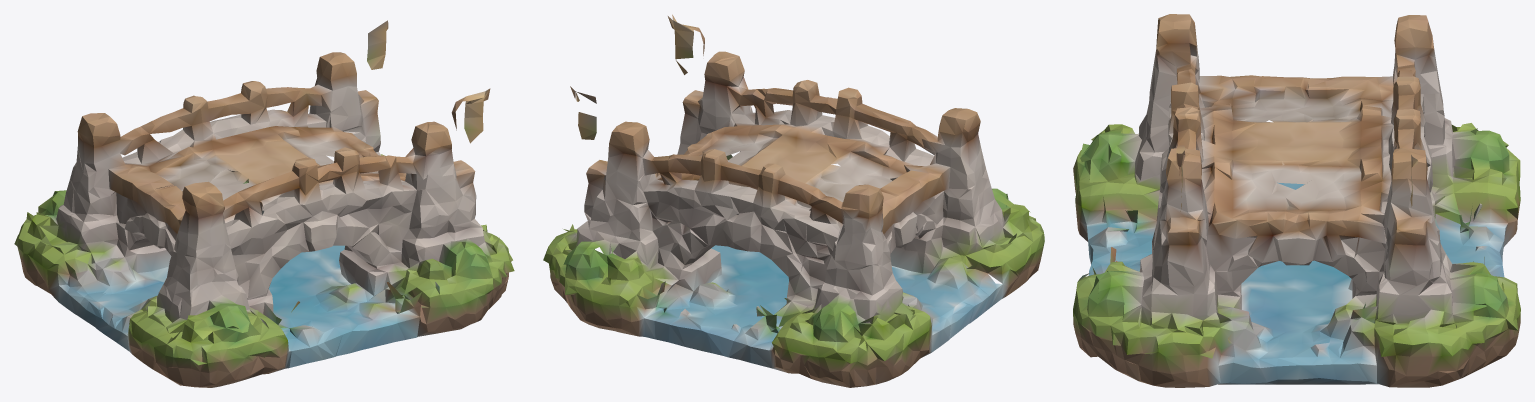
File: world_stone_bridge_lod2.glb
The picture shows the model from 3 angles, left to right: view 1: azimuth 30°, elevation 25°; view 2: azimuth 150°, elevation 25°; view 3: azimuth 270°, elevation 25°; orthographic projection. The views are drawn at different scales.
Visible parts, largest first — view 1: world; view 2: world; view 3: world.
Boxes of the visible parts, x1=… form: world: x1=14, y1=20, x2=514, y2=387; world: x1=543, y1=14, x2=1044, y2=387; world: x1=1073, y1=14, x2=1520, y2=387.
Bounding box in the file's own units: 1.86 × 0.9565 × 1.66.
